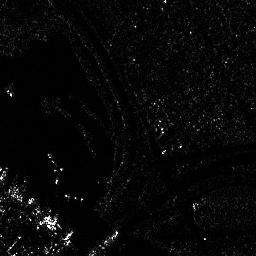ship: (89, 231, 119, 256)
